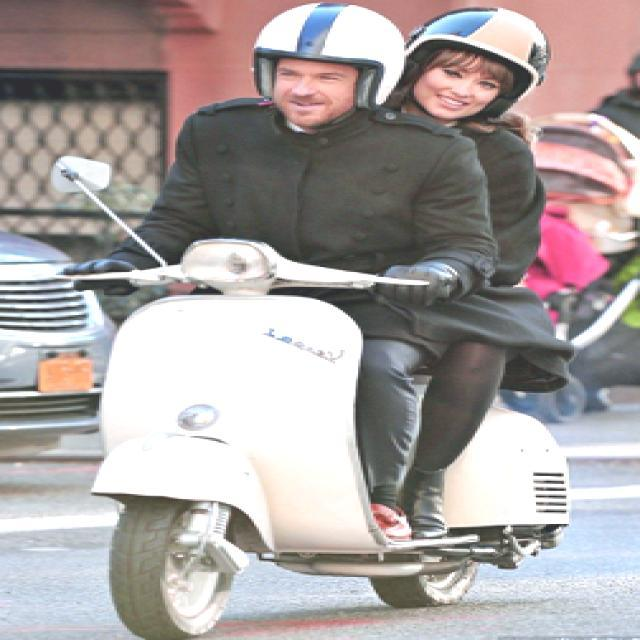Helmet: (236, 0, 414, 134)
